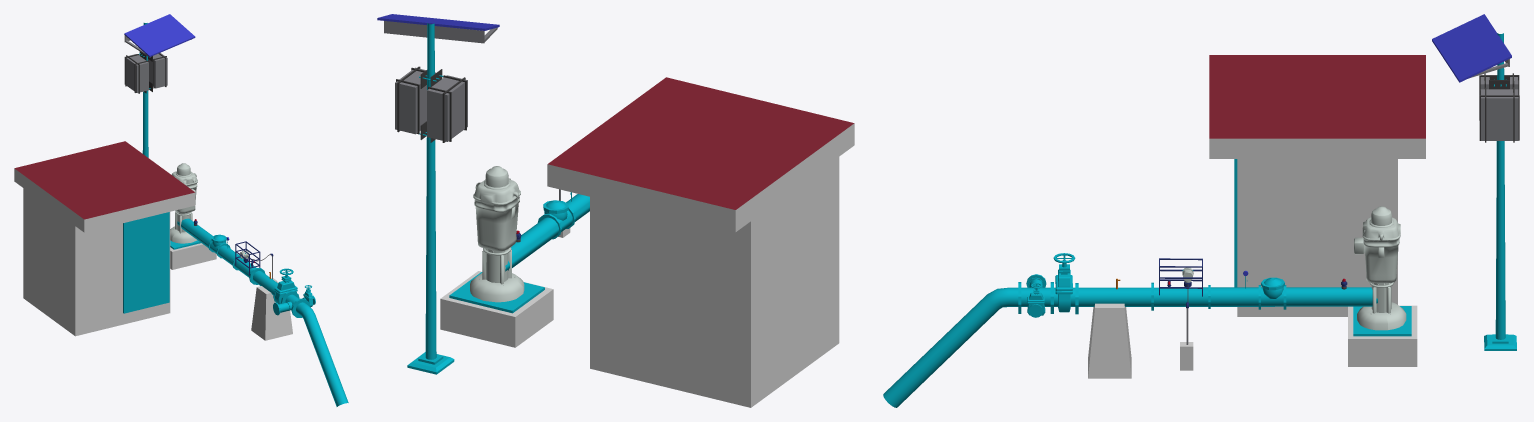
File: PozoPart_01_Azcp.glb
The picture shows the model from 3 angles, left to right: view 1: azimuth 30°, elevation 25°; view 2: azimuth 150°, elevation 25°; view 3: azimuth 270°, elevation 25°; orthographic projection. The views are drawn at different scales.
Visible parts, largest first — view 1: Terreno, Bomba_TBP_A; view 2: Terreno, Bomba_TBP_A; view 3: Terreno, Bomba_TBP_A.
Part boxes in pixels (x1=…): Terreno: x1=14, y1=14, x2=348, y2=406; Bomba_TBP_A: x1=170, y1=163, x2=197, y2=243; Terreno: x1=377, y1=14, x2=854, y2=407; Bomba_TBP_A: x1=470, y1=166, x2=524, y2=302; Terreno: x1=883, y1=14, x2=1519, y2=407; Bomba_TBP_A: x1=1354, y1=206, x2=1406, y2=330.
Size of what is drawn, in the model's own units: 28.95 by 34.9 by 53.82.
